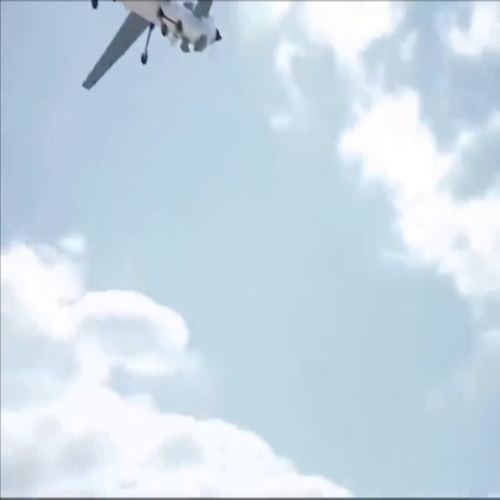uav823: (77, 1, 225, 92)
